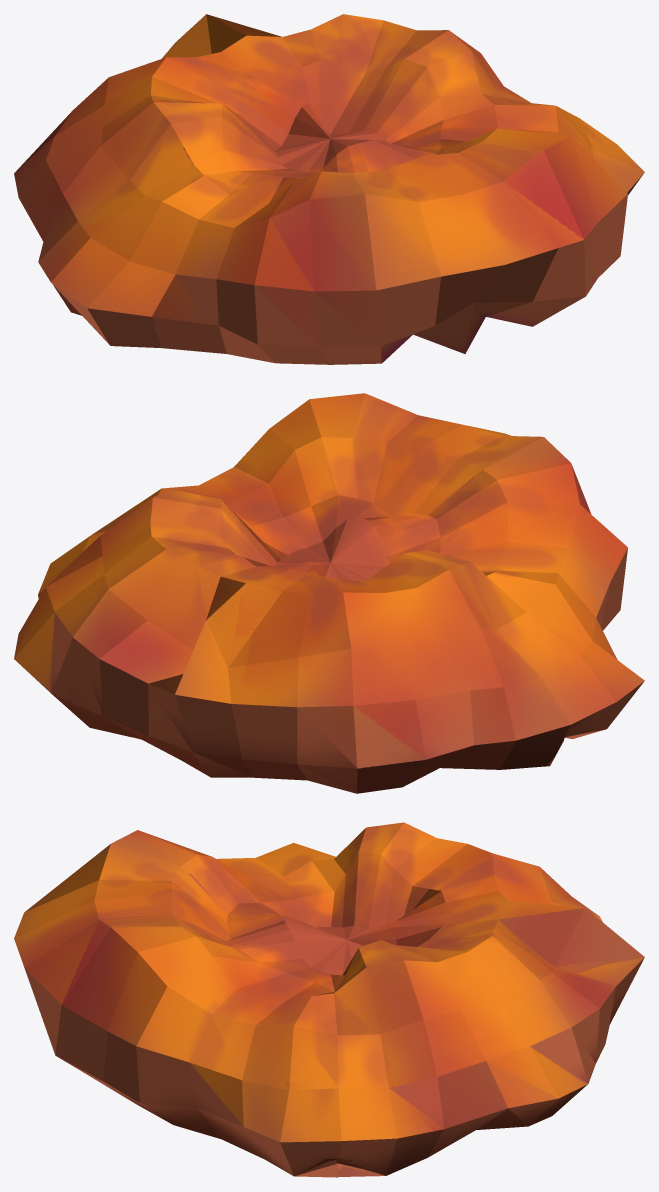
Rendered from flores.fbx.
3 views of the same model, one above another, from view 1: azimuth 30°, elevation 25°; view 2: azimuth 150°, elevation 25°; view 3: azimuth 270°, elevation 25° (orthographic). The views are drawn at different scales.
Visible parts, largest first — view 1: Sphere; view 2: Sphere; view 3: Sphere.
Boxes of the visible parts, left/top/right/bottom form: Sphere: left=14, top=14, right=644, bottom=364; Sphere: left=14, top=393, right=644, bottom=793; Sphere: left=14, top=822, right=644, bottom=1177.
Bounding box in the file's own units: 27.33 × 8.63 × 27.59.
